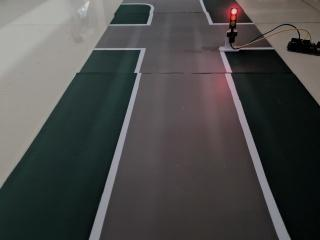red: (225, 5, 242, 34)
